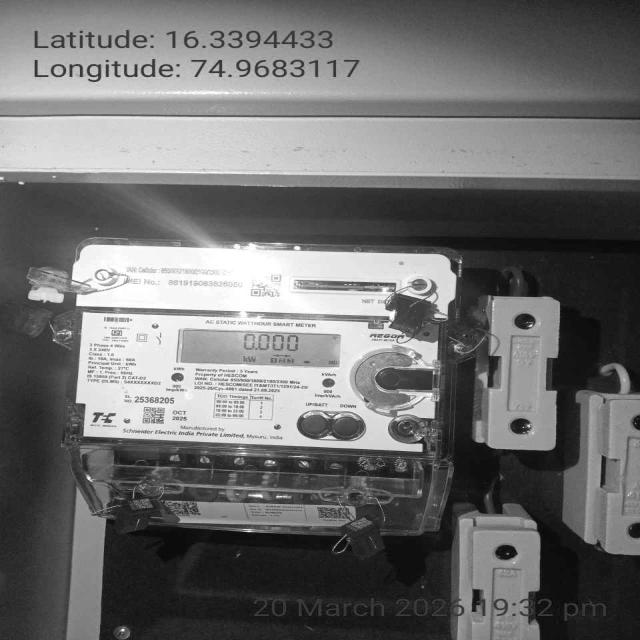meter: (71, 248, 440, 452)
